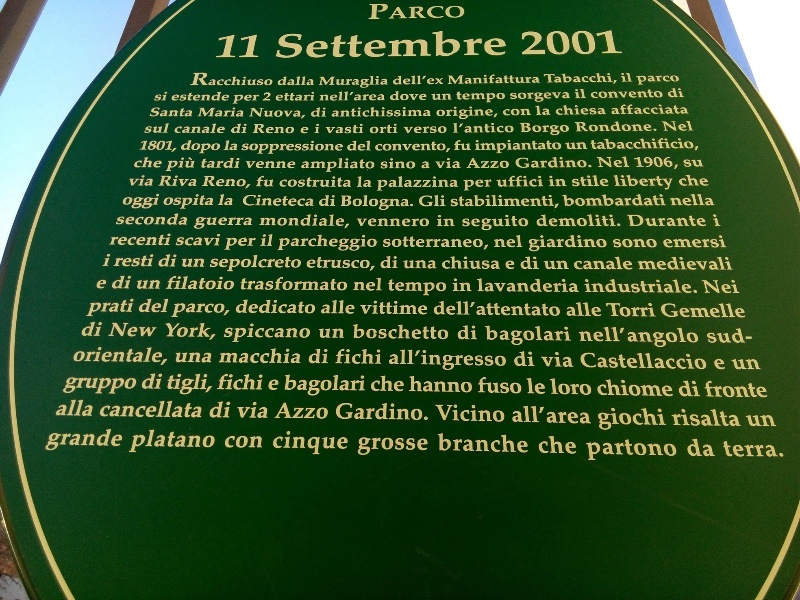text: (289, 30, 304, 61), (305, 30, 320, 61), (321, 30, 336, 61), (337, 30, 352, 61), (353, 30, 368, 61), (369, 30, 384, 61), (385, 30, 400, 61), (401, 30, 416, 61), (417, 30, 432, 61), (433, 30, 448, 61), (449, 30, 464, 61), (465, 30, 480, 61), (481, 30, 496, 61), (529, 29, 544, 56), (545, 29, 560, 56), (561, 29, 576, 56), (577, 29, 592, 56), (593, 29, 608, 56), (609, 406, 624, 432), (625, 406, 640, 432), (641, 406, 656, 432), (593, 325, 608, 351), (609, 325, 624, 351), (625, 325, 640, 351), (641, 325, 656, 351), (657, 325, 672, 351), (673, 325, 688, 351), (609, 29, 623, 56), (289, 374, 304, 399), (305, 374, 320, 399), (321, 374, 336, 399), (337, 374, 352, 399), (145, 428, 160, 453), (161, 428, 176, 453), (177, 428, 192, 453), (193, 428, 208, 453), (289, 431, 304, 456), (305, 431, 320, 456), (321, 431, 336, 456), (65, 428, 80, 452), (81, 428, 96, 452), (97, 428, 112, 452), (274, 431, 288, 456), (225, 35, 240, 58), (241, 35, 256, 58), (177, 373, 192, 396), (193, 373, 208, 396), (497, 30, 508, 61), (579, 325, 592, 351), (50, 428, 64, 452), (561, 435, 577, 456), (433, 350, 448, 372), (449, 350, 464, 372), (465, 350, 480, 372), (481, 350, 496, 372), (65, 375, 80, 397), (81, 375, 96, 397), (97, 375, 112, 397), (113, 375, 128, 397), (593, 439, 608, 461), (609, 439, 624, 461), (625, 439, 640, 461), (641, 439, 656, 461), (657, 439, 672, 461), (353, 374, 366, 399), (225, 322, 240, 343), (241, 322, 256, 343), (257, 322, 272, 343), (273, 322, 288, 343), (289, 322, 304, 343), (497, 325, 512, 346), (513, 325, 528, 346), (529, 325, 544, 346), (545, 325, 560, 346), (81, 346, 96, 367), (97, 346, 112, 367), (113, 346, 128, 367), (129, 346, 144, 367), (145, 346, 160, 367), (241, 399, 256, 420), (673, 407, 688, 428), (689, 407, 704, 428), (705, 407, 720, 428), (721, 407, 736, 428), (449, 433, 464, 454), (465, 433, 480, 454), (481, 433, 496, 454), (497, 433, 512, 454), (513, 433, 528, 454), (545, 435, 560, 456), (593, 351, 608, 372), (609, 351, 624, 372), (625, 351, 640, 372), (641, 351, 656, 372), (657, 351, 672, 372), (673, 351, 688, 372), (689, 351, 704, 372), (433, 323, 449, 342), (97, 298, 112, 318), (113, 298, 128, 318), (337, 401, 352, 421), (353, 401, 368, 421), (369, 401, 384, 421), (385, 401, 400, 421), (401, 401, 416, 421), (369, 437, 384, 457), (385, 437, 400, 457), (401, 437, 416, 457), (689, 437, 704, 457), (113, 399, 128, 419), (129, 399, 144, 419), (145, 399, 160, 419), (161, 399, 176, 419), (177, 399, 192, 419), (577, 378, 593, 396), (769, 441, 785, 459), (597, 406, 608, 432), (689, 325, 700, 351), (529, 234, 544, 253), (545, 234, 560, 253), (561, 234, 576, 253), (577, 234, 592, 253), (593, 234, 608, 253), (177, 322, 192, 341), (193, 322, 208, 341), (353, 323, 368, 342), (369, 323, 384, 342), (385, 323, 400, 342), (401, 323, 416, 342), (417, 323, 432, 342), (225, 373, 240, 392), (241, 373, 256, 392), (529, 377, 544, 396), (609, 379, 624, 398), (625, 379, 640, 398), (641, 379, 656, 398), (657, 379, 672, 398), (449, 404, 464, 423), (465, 404, 480, 423), (481, 404, 496, 423), (133, 428, 144, 453), (337, 431, 348, 456), (657, 174, 673, 191), (145, 193, 161, 210), (753, 381, 769, 398), (737, 328, 753, 345), (385, 3, 400, 21), (401, 3, 416, 21), (417, 3, 432, 21), (433, 3, 448, 21), (449, 3, 464, 21), (353, 194, 368, 212), (369, 194, 384, 212), (385, 194, 400, 212), (465, 214, 480, 232), (481, 214, 496, 232), (497, 214, 512, 232), (513, 214, 528, 232), (289, 235, 304, 253), (305, 235, 320, 253), (321, 235, 336, 253), (337, 235, 352, 253), (353, 235, 368, 253), (225, 254, 240, 272), (241, 254, 256, 272), (257, 254, 272, 272), (273, 254, 288, 272), (401, 279, 416, 297), (417, 279, 432, 297), (225, 347, 240, 365), (241, 347, 256, 365), (257, 347, 272, 365), (273, 347, 288, 365), (337, 348, 352, 366), (353, 348, 368, 366), (401, 348, 416, 366), (545, 351, 560, 369), (145, 373, 160, 391), (385, 375, 400, 393), (417, 376, 432, 394), (433, 376, 448, 394), (449, 376, 464, 394), (481, 377, 496, 395), (497, 377, 512, 395), (561, 378, 576, 396), (65, 399, 80, 417), (289, 402, 304, 420), (305, 402, 320, 420), (513, 406, 528, 424), (529, 406, 544, 424), (721, 441, 736, 459), (737, 441, 752, 459), (753, 441, 768, 459), (113, 428, 124, 452), (657, 406, 667, 432), (305, 158, 320, 175), (321, 158, 336, 175), (337, 158, 352, 175), (353, 158, 368, 175), (385, 175, 400, 192), (401, 175, 416, 192), (417, 175, 432, 192), (433, 175, 448, 192), (625, 174, 640, 191), (641, 174, 656, 191), (129, 193, 144, 210), (577, 301, 592, 318), (241, 298, 256, 315), (257, 298, 272, 315), (273, 298, 288, 315), (289, 298, 304, 315), (113, 322, 128, 339), (129, 322, 144, 339), (705, 381, 720, 398), (721, 381, 736, 398), (737, 381, 752, 398), (721, 328, 736, 345), (241, 276, 256, 293), (257, 276, 272, 293), (273, 276, 288, 293), (289, 276, 304, 293), (305, 276, 320, 293), (321, 276, 336, 293), (370, 3, 384, 21), (401, 194, 415, 212), (433, 279, 447, 297), (81, 399, 95, 417), (257, 399, 269, 420), (580, 351, 592, 372), (435, 404, 448, 423), (177, 194, 192, 210), (193, 194, 208, 210), (273, 214, 288, 230), (289, 214, 304, 230), (305, 214, 320, 230), (321, 214, 336, 230), (545, 213, 560, 229), (561, 213, 576, 229), (577, 213, 592, 229), (593, 213, 608, 229), (577, 255, 592, 271), (593, 255, 608, 271), (609, 255, 624, 271), (177, 275, 192, 291), (193, 275, 208, 291), (209, 275, 224, 291), (673, 303, 688, 319), (689, 303, 704, 319), (705, 303, 720, 319), (721, 303, 736, 319), (641, 303, 657, 318), (417, 401, 429, 421), (481, 277, 496, 293), (497, 277, 512, 293), (513, 277, 528, 293), (529, 277, 544, 293), (545, 277, 560, 293), (561, 277, 576, 293), (593, 279, 608, 295), (609, 279, 624, 295), (625, 279, 640, 295), (641, 279, 656, 295), (657, 279, 672, 295), (673, 279, 688, 295), (514, 351, 528, 368), (211, 254, 224, 272), (289, 254, 302, 272), (289, 347, 302, 365), (369, 348, 382, 366), (561, 351, 574, 369), (371, 375, 384, 393), (485, 325, 496, 346), (561, 325, 572, 346), (437, 433, 448, 454), (596, 379, 608, 398), (529, 122, 544, 137), (545, 122, 560, 137), (193, 140, 208, 155), (257, 140, 272, 155), (273, 140, 288, 155), (289, 140, 304, 155), (305, 140, 320, 155), (321, 140, 336, 155), (481, 140, 496, 155), (497, 140, 512, 155), (513, 140, 528, 155), (529, 140, 544, 155), (545, 140, 560, 155), (177, 157, 192, 172), (209, 175, 224, 190), (225, 175, 240, 190), (689, 173, 704, 188), (209, 215, 224, 230), (225, 215, 240, 230), (641, 214, 656, 229), (657, 214, 672, 229), (673, 214, 688, 229), (689, 214, 704, 229), (401, 236, 416, 251), (417, 236, 432, 251), (433, 236, 448, 251), (449, 236, 464, 251), (465, 236, 480, 251), (161, 253, 176, 268), (321, 257, 336, 272), (337, 257, 352, 272), (353, 257, 368, 272), (449, 255, 464, 270), (465, 255, 480, 270), (481, 255, 496, 270), (641, 255, 656, 270), (657, 255, 672, 270), (673, 255, 688, 270), (689, 255, 704, 270), (705, 255, 720, 270), (113, 275, 128, 290), (705, 279, 720, 294), (721, 279, 736, 294), (609, 303, 624, 318), (625, 303, 640, 318), (449, 301, 464, 316), (369, 301, 384, 316), (385, 301, 400, 316), (401, 301, 416, 316), (321, 300, 336, 315), (337, 300, 352, 315), (177, 303, 192, 318), (193, 303, 208, 318), (209, 303, 224, 318), (145, 299, 160, 314), (593, 137, 608, 152), (609, 137, 624, 152), (625, 137, 640, 152), (641, 137, 656, 152), (657, 137, 672, 152), (673, 137, 688, 152), (577, 192, 592, 207), (593, 192, 608, 207), (609, 192, 624, 207), (625, 192, 640, 207), (641, 192, 656, 207), (465, 194, 480, 209), (481, 194, 496, 209), (497, 194, 512, 209), (513, 194, 528, 209), (529, 194, 544, 209), (257, 72, 273, 86), (161, 139, 177, 153), (241, 237, 257, 251), (545, 303, 561, 317), (465, 325, 478, 342), (707, 328, 720, 345), (422, 350, 432, 372), (497, 350, 507, 372), (417, 437, 428, 457), (705, 437, 716, 457), (101, 399, 112, 419), (281, 30, 288, 61), (388, 279, 400, 297), (689, 380, 701, 398), (212, 401, 224, 419), (209, 72, 224, 86), (225, 72, 240, 86), (241, 72, 256, 86), (321, 76, 336, 90), (337, 76, 352, 90), (353, 76, 368, 90), (369, 76, 384, 90), (465, 91, 480, 105), (481, 91, 496, 105), (145, 139, 160, 153), (242, 140, 256, 155), (641, 156, 656, 170), (657, 156, 672, 170), (465, 178, 480, 192), (497, 174, 512, 188), (513, 174, 528, 188), (529, 174, 544, 188), (577, 173, 592, 187), (593, 173, 608, 187), (129, 213, 144, 227), (145, 213, 160, 227), (161, 213, 176, 227), (113, 233, 128, 247), (129, 233, 144, 247), (145, 233, 160, 247), (673, 235, 688, 249), (689, 235, 704, 249), (705, 235, 720, 249), (129, 254, 144, 268), (354, 277, 368, 292), (369, 277, 383, 292), (481, 303, 496, 317), (497, 303, 512, 317), (513, 303, 528, 317), (529, 303, 544, 317), (434, 301, 448, 316), (737, 358, 752, 372), (561, 411, 576, 425), (577, 411, 592, 425), (753, 414, 768, 428), (241, 435, 256, 449), (562, 192, 576, 207), (450, 194, 464, 209), (545, 194, 559, 209), (577, 156, 593, 169), (337, 214, 350, 230), (609, 213, 622, 229), (659, 303, 672, 319), (145, 322, 157, 339), (193, 399, 203, 419), (341, 194, 352, 212), (194, 72, 208, 86), (226, 237, 240, 251), (226, 435, 240, 449), (257, 107, 272, 120), (273, 107, 288, 120), (289, 107, 304, 120), (449, 107, 464, 120), (465, 107, 480, 120), (481, 107, 496, 120), (465, 122, 480, 135), (481, 122, 496, 135), (497, 122, 512, 135), (353, 140, 368, 153), (145, 156, 160, 169), (529, 156, 544, 169), (545, 156, 560, 169), (561, 156, 576, 169), (609, 156, 624, 169), (129, 174, 144, 187), (161, 174, 176, 187), (177, 174, 192, 187), (257, 175, 272, 188), (257, 194, 272, 207), (273, 194, 288, 207), (289, 194, 304, 207), (673, 193, 688, 206), (689, 193, 704, 206), (627, 214, 640, 229), (193, 234, 208, 247), (497, 235, 512, 248), (721, 255, 734, 270), (83, 322, 96, 337), (641, 121, 657, 133), (166, 322, 176, 341), (613, 174, 624, 191), (305, 298, 316, 315), (309, 348, 320, 365), (337, 276, 348, 293), (178, 234, 192, 247), (385, 256, 398, 270), (547, 411, 560, 425), (449, 73, 464, 85), (465, 73, 480, 85), (481, 73, 496, 85), (497, 73, 512, 85), (513, 73, 528, 85), (641, 74, 656, 86), (657, 74, 672, 86), (241, 93, 256, 105), (401, 90, 416, 102), (513, 91, 528, 103), (529, 91, 544, 103), (545, 91, 560, 103), (561, 104, 576, 116), (577, 104, 592, 116), (625, 104, 640, 116), (641, 104, 656, 116), (657, 104, 672, 116), (673, 104, 688, 116), (257, 123, 272, 135), (273, 123, 288, 135), (577, 121, 592, 133), (593, 121, 608, 133), (609, 121, 624, 133), (625, 121, 640, 133), (673, 120, 688, 132), (209, 140, 221, 155), (385, 141, 400, 153), (401, 141, 416, 153), (417, 141, 432, 153), (433, 141, 448, 153), (209, 157, 224, 169), (225, 157, 240, 169), (385, 158, 400, 170), (401, 158, 416, 170), (289, 176, 304, 188), (305, 176, 320, 188), (321, 176, 336, 188), (337, 176, 352, 188), (321, 195, 336, 207), (196, 215, 208, 230), (241, 215, 253, 230), (308, 257, 320, 272), (177, 352, 192, 364), (193, 352, 208, 364), (390, 348, 400, 366), (550, 378, 560, 396), (678, 380, 688, 398), (359, 437, 368, 457), (165, 194, 176, 210), (261, 214, 272, 230), (129, 375, 137, 397), (209, 428, 216, 453), (449, 175, 459, 192), (566, 301, 576, 318), (243, 194, 256, 207), (419, 194, 432, 207), (433, 194, 446, 207), (593, 104, 607, 116), (370, 123, 384, 135), (434, 157, 448, 169), (481, 178, 493, 192), (116, 254, 128, 268), (545, 73, 560, 84), (561, 73, 576, 84), (577, 73, 592, 84), (593, 73, 608, 84), (289, 91, 304, 102), (321, 91, 336, 102), (337, 91, 352, 102), (353, 91, 368, 102), (369, 91, 384, 102), (209, 107, 224, 118), (225, 107, 240, 118), (337, 107, 352, 118), (353, 107, 368, 118), (369, 107, 384, 118), (385, 107, 400, 118), (401, 107, 416, 118), (417, 107, 432, 118), (177, 124, 192, 135), (193, 124, 208, 135), (209, 124, 224, 135), (337, 124, 352, 135), (181, 140, 192, 155), (481, 158, 496, 169), (625, 238, 640, 249), (641, 238, 656, 249), (417, 259, 432, 270), (453, 278, 464, 293), (465, 301, 476, 316), (417, 301, 428, 316), (689, 137, 700, 152), (657, 192, 668, 207), (321, 328, 336, 339), (522, 29, 528, 56), (279, 235, 288, 253), (513, 377, 522, 395), (279, 402, 288, 420), (169, 373, 176, 396), (177, 107, 193, 117), (145, 280, 161, 290), (225, 275, 235, 291), (737, 303, 747, 319), (673, 87, 685, 100), (385, 123, 398, 135), (516, 156, 528, 169), (548, 175, 560, 188), (209, 234, 221, 247), (226, 140, 240, 151), (466, 158, 480, 169), (177, 213, 188, 227), (161, 233, 172, 247), (529, 256, 540, 270), (585, 439, 592, 461), (593, 301, 602, 318), (497, 404, 505, 423), (289, 76, 304, 86), (401, 75, 416, 85), (417, 75, 432, 85), (177, 92, 192, 102), (193, 92, 208, 102), (209, 92, 224, 102), (593, 89, 608, 99), (609, 89, 624, 99), (625, 89, 640, 99), (641, 89, 656, 99), (161, 107, 176, 117), (241, 175, 251, 190), (678, 173, 688, 188), (369, 218, 384, 228), (385, 218, 400, 228), (401, 218, 416, 228), (545, 260, 560, 270), (97, 280, 112, 290), (305, 322, 312, 343), (161, 346, 168, 367), (612, 104, 624, 116), (449, 157, 461, 169), (689, 159, 705, 168), (369, 235, 377, 253), (465, 376, 473, 394), (321, 402, 329, 420), (583, 279, 592, 295), (689, 279, 698, 295), (437, 107, 448, 120), (147, 123, 160, 134), (453, 122, 464, 135), (497, 158, 510, 169), (597, 156, 608, 169), (705, 193, 716, 206), (403, 259, 416, 270), (118, 213, 128, 227), (145, 254, 155, 268), (513, 108, 528, 117), (561, 122, 570, 137), (257, 161, 272, 170), (273, 161, 288, 170), (161, 299, 170, 314), (209, 322, 216, 341), (257, 373, 264, 392), (529, 73, 540, 85), (276, 91, 288, 102), (661, 120, 672, 132), (357, 176, 368, 188), (437, 215, 448, 227), (305, 194, 315, 207), (417, 218, 430, 228), (262, 234, 272, 247), (513, 235, 523, 248), (625, 255, 633, 271), (497, 91, 506, 105), (711, 214, 720, 228), (663, 235, 672, 249), (74, 346, 80, 367), (753, 358, 762, 372), (409, 376, 416, 394), (538, 435, 544, 456), (353, 124, 364, 135), (613, 238, 624, 249), (417, 90, 427, 102), (433, 93, 448, 101), (561, 91, 571, 103), (577, 88, 587, 100), (417, 126, 432, 134), (520, 122, 528, 137), (481, 236, 489, 251), (360, 301, 368, 316), (90, 298, 96, 318), (129, 298, 135, 318), (369, 158, 376, 175), (377, 175, 384, 192), (457, 325, 464, 342), (321, 348, 328, 365), (529, 351, 536, 368), (135, 156, 144, 169), (225, 194, 234, 207), (219, 35, 224, 58), (433, 126, 447, 134), (537, 213, 544, 229), (169, 275, 176, 291), (769, 414, 777, 428), (433, 75, 444, 85), (305, 91, 315, 102), (326, 124, 336, 135), (454, 140, 464, 151), (565, 141, 576, 151), (577, 141, 588, 151), (357, 218, 368, 228), (391, 90, 400, 102), (193, 259, 205, 268), (225, 401, 231, 419), (169, 157, 176, 172), (393, 236, 400, 251), (465, 278, 472, 293), (737, 407, 742, 428), (145, 174, 153, 187), (305, 76, 315, 86), (609, 73, 618, 84), (311, 107, 320, 118), (535, 105, 544, 116), (161, 123, 170, 134), (245, 161, 256, 170), (457, 91, 464, 105), (633, 156, 640, 170), (521, 256, 528, 270), (745, 414, 752, 428), (673, 74, 681, 86), (241, 122, 249, 134), (404, 126, 416, 134), (376, 141, 384, 153), (280, 176, 288, 188), (209, 373, 213, 396), (561, 175, 568, 188), (713, 358, 720, 371), (279, 76, 288, 86), (337, 140, 343, 155), (182, 259, 192, 268), (369, 257, 375, 272), (561, 260, 570, 270), (225, 303, 231, 318), (97, 322, 103, 337), (59, 399, 64, 417), (625, 72, 633, 83), (200, 107, 208, 118), (673, 439, 677, 461), (337, 328, 345, 339), (673, 156, 679, 170), (721, 235, 727, 249), (106, 253, 112, 267), (236, 399, 240, 420), (257, 435, 263, 449), (503, 108, 512, 117), (152, 107, 160, 117), (422, 161, 432, 169), (209, 194, 214, 210), (625, 156, 631, 169), (721, 358, 727, 371), (505, 259, 512, 270), (220, 373, 224, 392), (475, 140, 480, 155), (705, 173, 710, 188), (443, 255, 448, 270), (285, 374, 288, 399), (234, 93, 240, 105), (264, 92, 272, 101), (234, 122, 240, 134), (289, 123, 295, 135), (202, 157, 208, 169), (449, 215, 455, 227), (220, 347, 224, 365), (417, 348, 421, 366), (540, 351, 544, 369), (273, 379, 279, 391), (657, 89, 664, 99), (571, 173, 576, 187), (137, 280, 144, 290), (731, 358, 736, 372), (124, 193, 128, 210), (236, 298, 240, 315), (321, 107, 327, 118), (545, 105, 551, 116), (465, 140, 471, 151), (667, 87, 672, 100), (251, 107, 256, 120), (193, 174, 198, 187), (161, 92, 168, 101), (289, 161, 296, 170), (394, 75, 400, 85), (225, 92, 231, 102), (689, 120, 694, 132), (193, 157, 197, 172), (204, 175, 208, 190), (497, 255, 501, 270), (737, 279, 741, 294), (140, 299, 144, 314), (401, 375, 404, 393), (348, 140, 352, 153), (220, 194, 224, 207), (315, 124, 320, 134), (636, 74, 640, 86), (556, 104, 560, 116), (573, 255, 576, 271), (209, 352, 213, 364), (268, 379, 272, 391), (477, 277, 480, 293), (577, 277, 580, 293), (257, 35, 259, 58), (683, 159, 688, 168), (637, 255, 640, 270), (701, 279, 704, 294), (605, 303, 608, 318), (620, 72, 624, 83), (332, 107, 336, 118), (433, 259, 437, 270), (385, 76, 388, 90), (381, 256, 384, 270), (477, 303, 480, 317), (705, 351, 707, 372), (686, 437, 688, 457), (369, 140, 372, 153), (526, 377, 528, 396), (257, 93, 260, 105), (381, 158, 384, 170), (369, 176, 372, 188), (462, 214, 464, 232), (142, 373, 144, 391), (161, 373, 163, 391), (478, 377, 480, 395), (302, 158, 304, 175), (241, 107, 244, 118), (513, 259, 516, 270), (449, 93, 453, 101), (305, 127, 309, 135), (173, 92, 176, 102), (561, 140, 563, 155), (705, 214, 707, 229), (129, 275, 131, 290), (353, 300, 355, 315), (590, 137, 592, 152), (142, 139, 144, 153), (157, 92, 160, 101), (529, 108, 532, 117), (497, 107, 499, 120), (513, 122, 515, 135), (161, 156, 163, 169), (670, 193, 672, 206), (494, 235, 496, 248), (510, 91, 512, 103), (574, 88, 576, 100), (254, 123, 256, 135), (301, 127, 304, 135), (574, 121, 576, 133), (449, 141, 451, 153), (225, 124, 227, 135), (671, 407, 672, 428), (590, 89, 592, 99), (545, 377, 546, 396), (673, 379, 674, 398), (465, 3, 466, 21), (529, 214, 530, 232), (545, 406, 546, 424), (111, 322, 112, 339), (703, 381, 704, 398), (177, 253, 178, 268), (175, 303, 176, 318), (609, 173, 610, 187), (721, 214, 722, 228), (111, 233, 112, 247), (305, 107, 306, 120), (273, 175, 274, 188), (273, 234, 274, 247), (689, 104, 690, 116), (319, 195, 320, 207), (385, 91, 386, 102), (657, 238, 658, 249), (319, 328, 320, 339), (543, 260, 544, 270)
